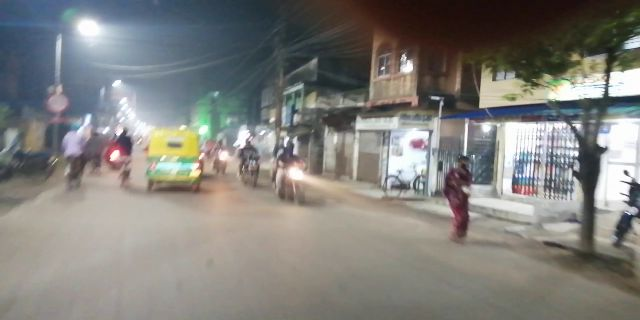Autorickshaw: (143, 126, 206, 196)
Motorbike: (272, 140, 316, 208)
